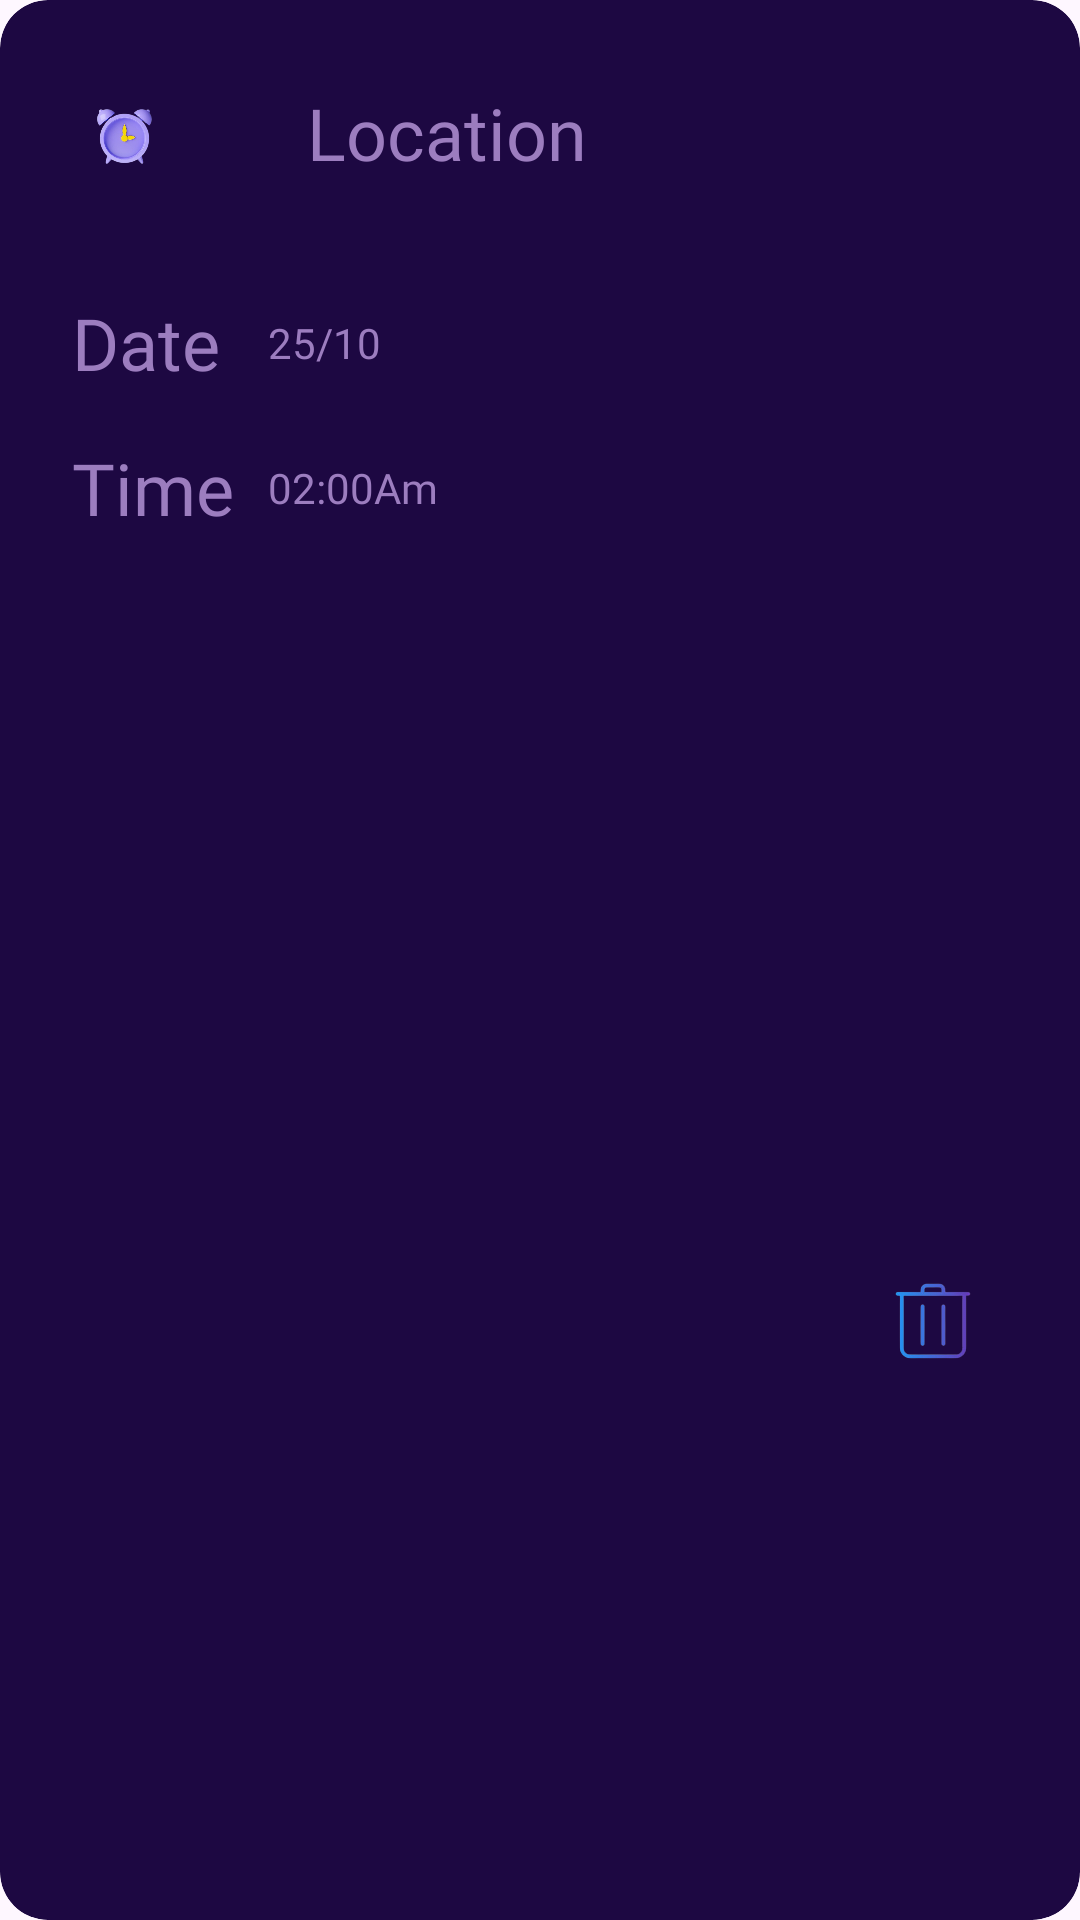

Named icons in this screenshot (1080×1920) and their bounding boxes, (x1, y1, x2, y2):
alarm: (97, 109, 152, 164)
delete: (896, 1283, 970, 1359)
